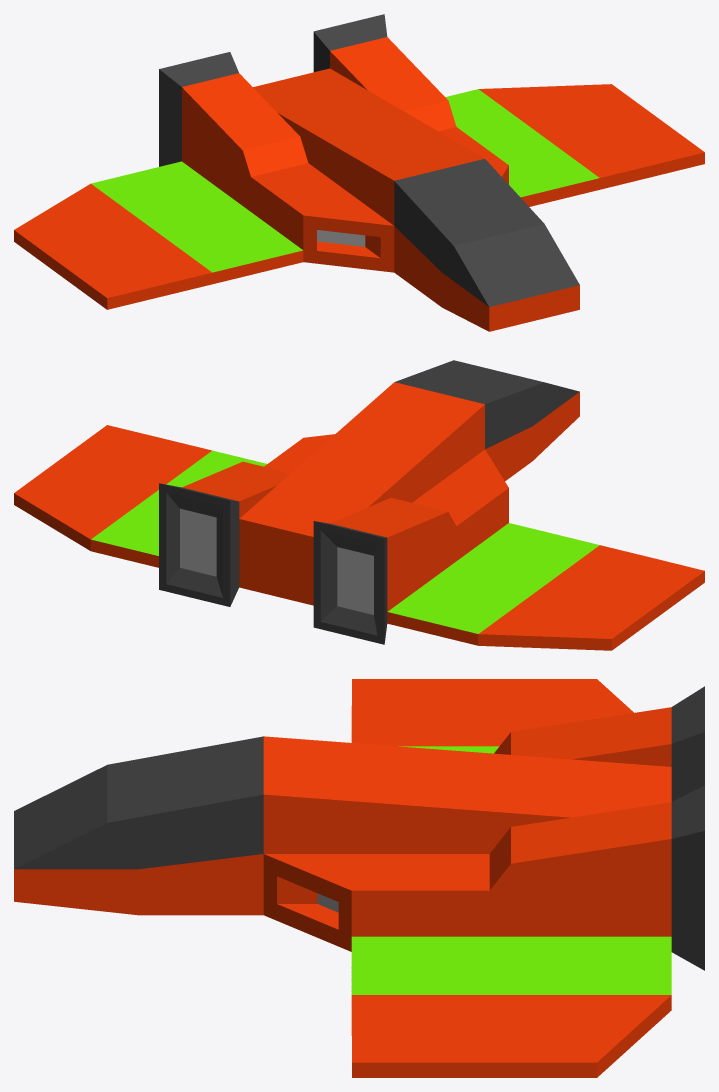
The model's file is simpleship_2.glb.
3 renders of one model, top to bottom at view 1: azimuth 30°, elevation 25°; view 2: azimuth 150°, elevation 25°; view 3: azimuth 270°, elevation 25°, orthographic. The views are drawn at different scales.
Visible parts, largest first — view 1: Cube; view 2: Cube; view 3: Cube.
Part boxes in pixels (x1=…): Cube: x1=14, y1=14, x2=704, y2=331; Cube: x1=14, y1=360, x2=704, y2=650; Cube: x1=14, y1=679, x2=704, y2=1077.
Size of the model in its own units: 13.18 by 2.25 by 10.03.
1 material, 1 textured.
